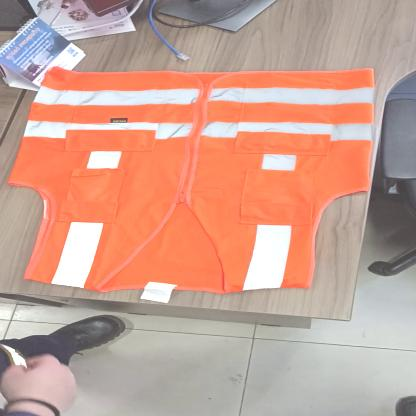colete: (8, 64, 374, 292)
